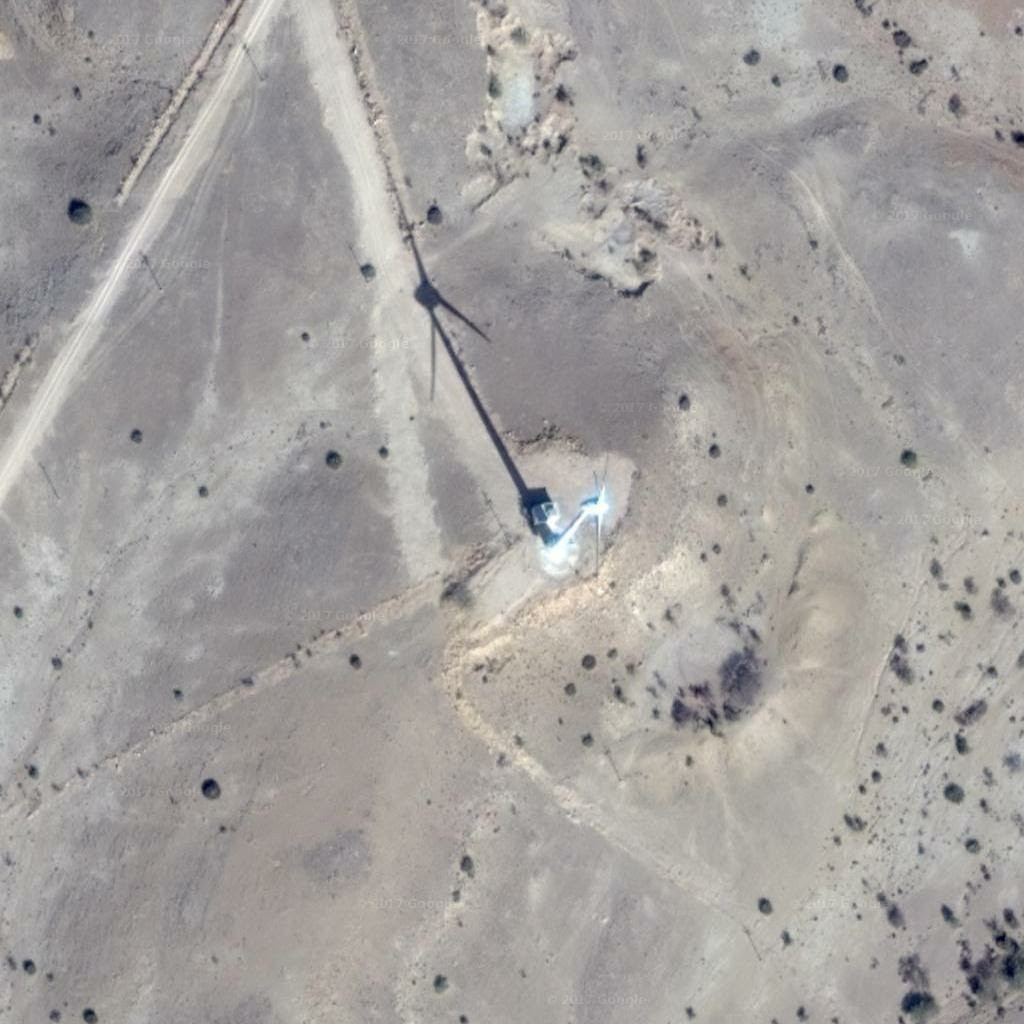Windmill: (392, 234, 560, 502)
